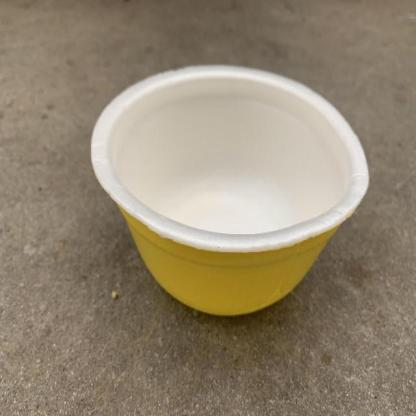Glass Cup: (90, 63, 368, 315), (91, 65, 370, 315)
